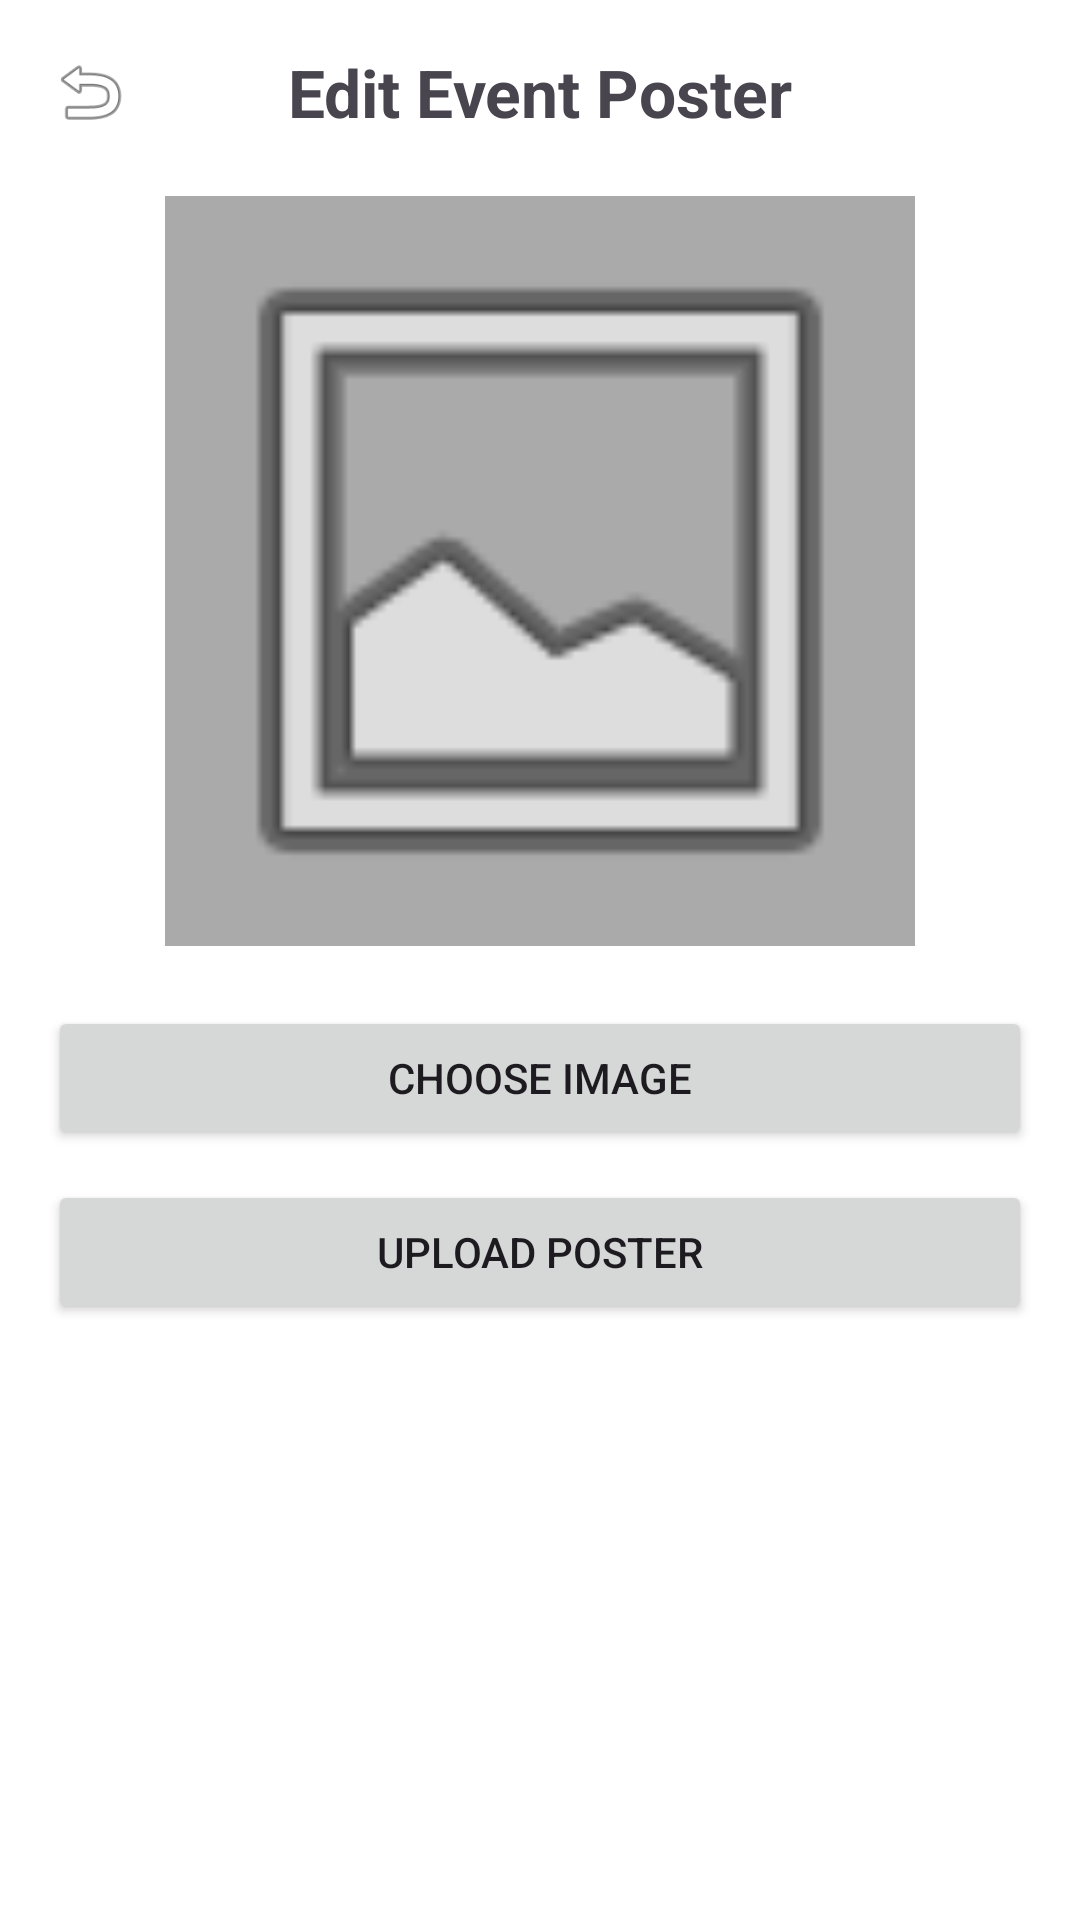

Where icons sit on this 1080*1920 app screen, as (x1, y1, x2, y2):
Back: (61, 65, 122, 120)
